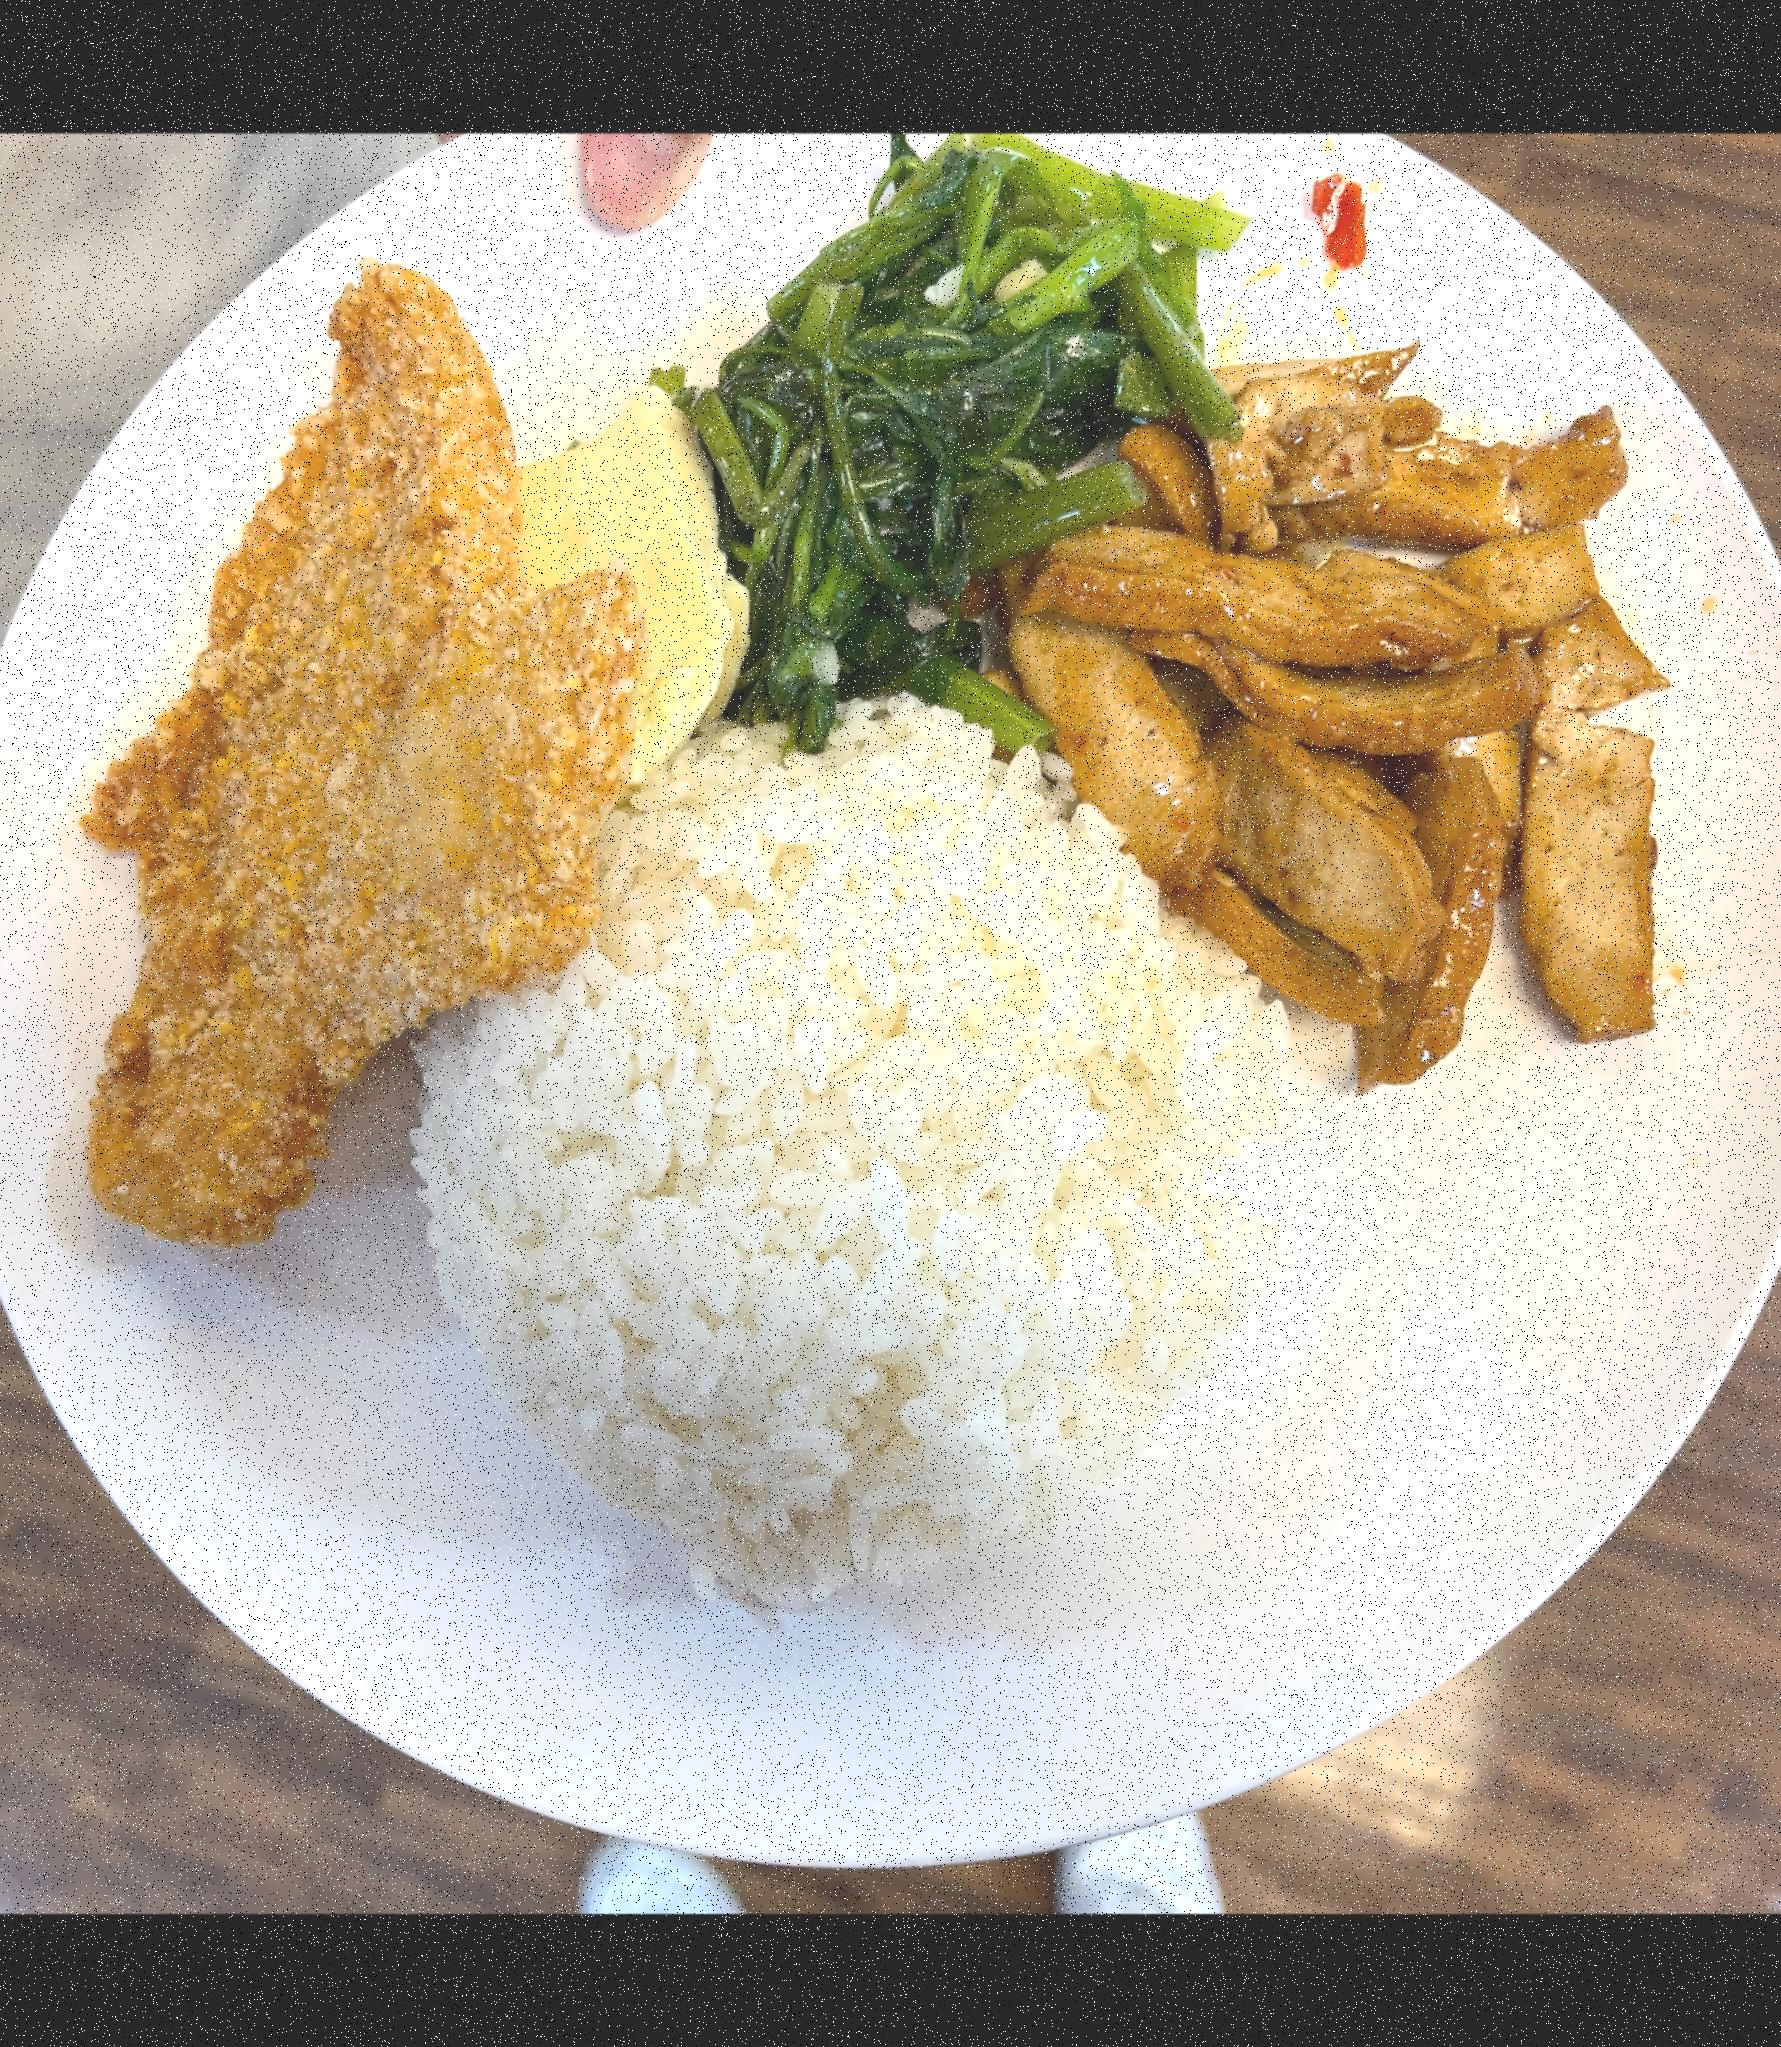chicken steak: (87, 234, 657, 1264)
plate: (0, 133, 1781, 1871)
side dish: (1034, 342, 1700, 1052), (700, 158, 1258, 790), (512, 384, 762, 822)
white rice: (398, 700, 1354, 1588)
